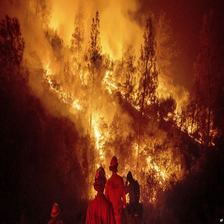fire: (21, 7, 194, 162)
